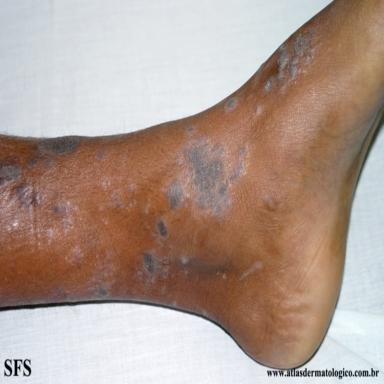lichen: (166, 124, 251, 222), (263, 26, 316, 93), (28, 136, 82, 168), (85, 250, 115, 301), (136, 250, 169, 287), (15, 183, 46, 208), (0, 163, 21, 187), (239, 261, 263, 281), (65, 246, 84, 266), (53, 201, 78, 216), (107, 189, 124, 210), (155, 216, 169, 240), (61, 215, 73, 235), (224, 96, 238, 111), (52, 285, 65, 297), (96, 149, 107, 162), (102, 178, 111, 191), (7, 222, 18, 232), (180, 255, 189, 266), (254, 105, 261, 116)
